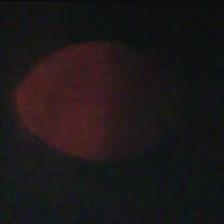fertile: (10, 38, 186, 165)
